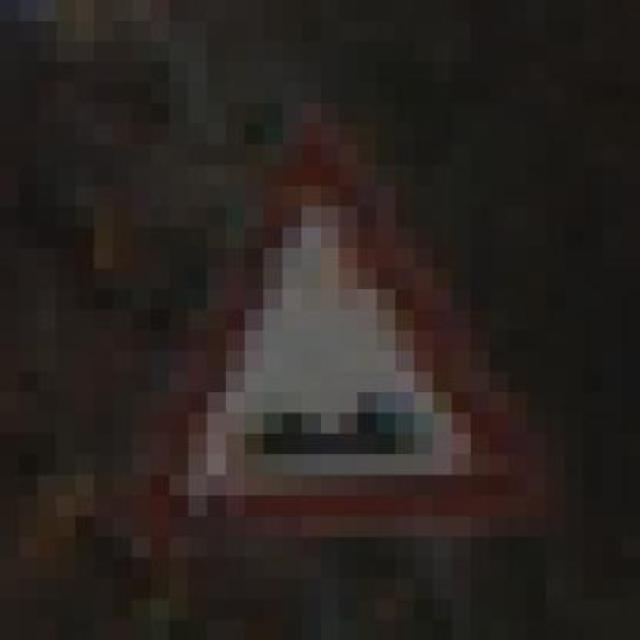Uneven Road: (132, 82, 546, 558)
